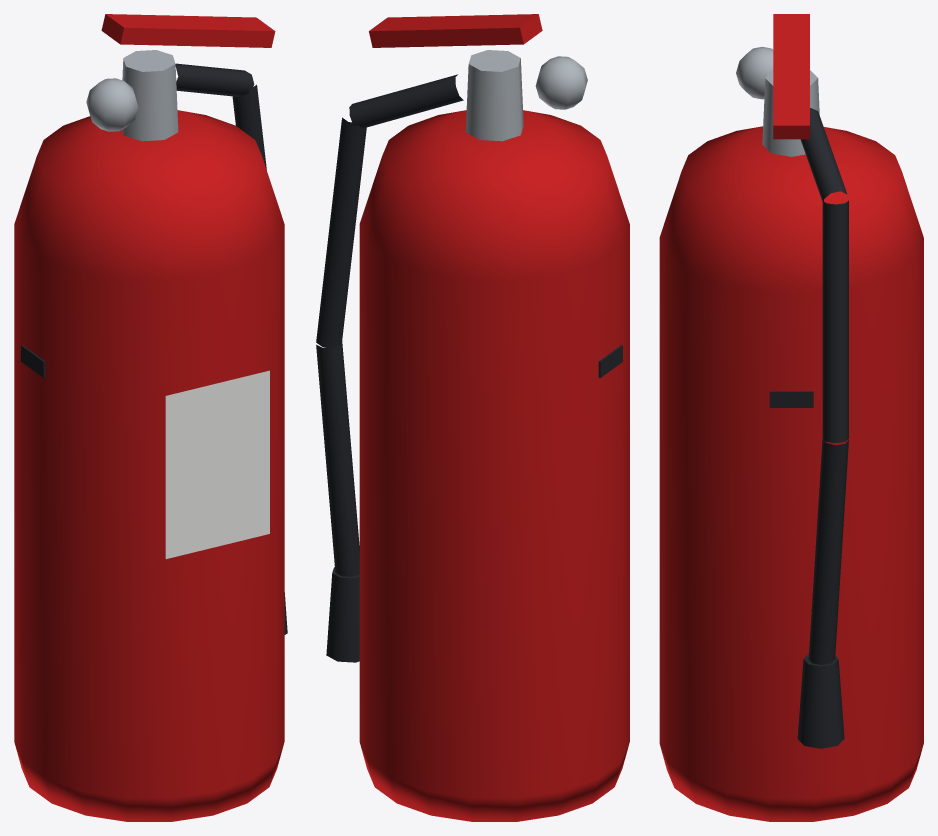
File: prop_extinguisher.glb
The picture shows the model from 3 angles, left to right: view 1: azimuth 30°, elevation 25°; view 2: azimuth 150°, elevation 25°; view 3: azimuth 270°, elevation 25°; orthographic projection. The views are drawn at different scales.
Bounding box in the file's own units: 0.209 × 0.5657 × 0.181.
